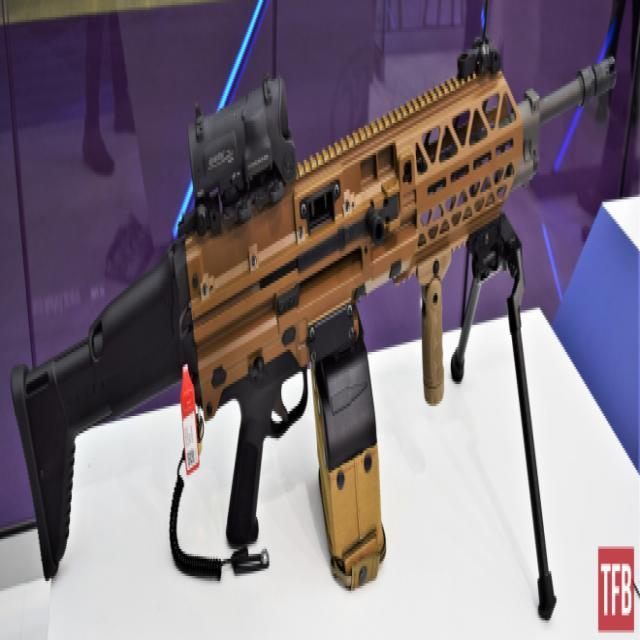weapon: (8, 39, 620, 626)
